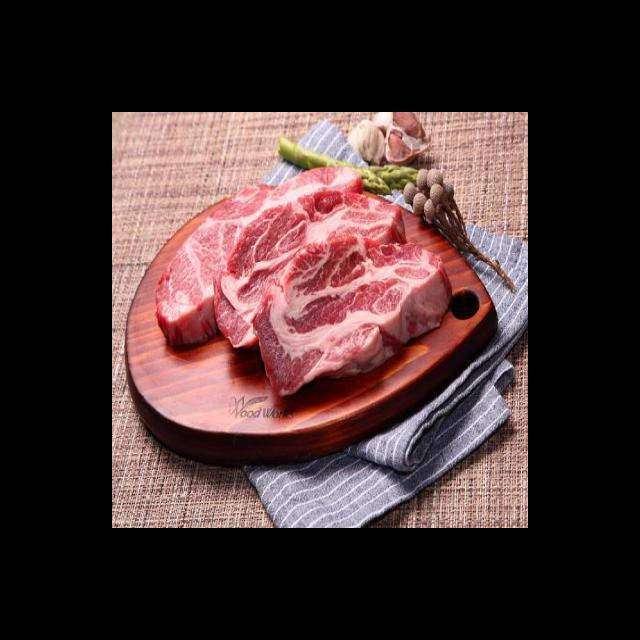pork: (178, 174, 442, 390)
